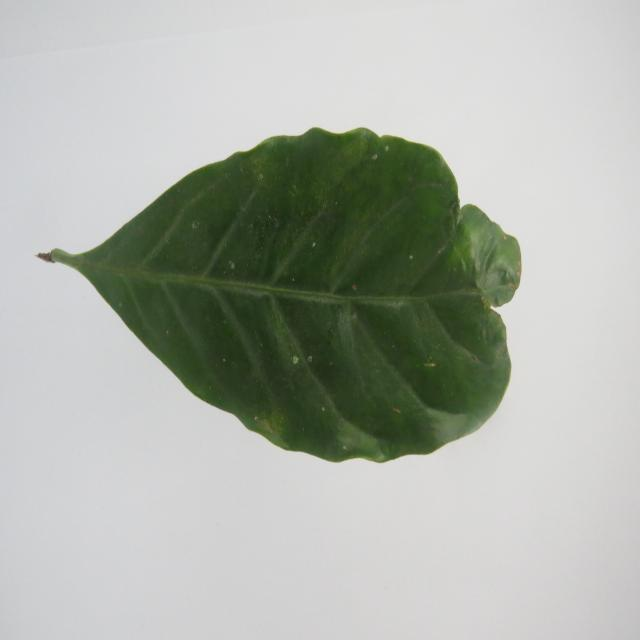DeficienciaNutricional-Boro: (38, 128, 521, 462)
